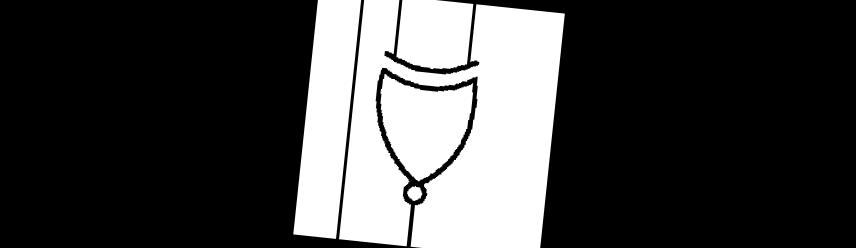xnor: (352, 13, 496, 230)
